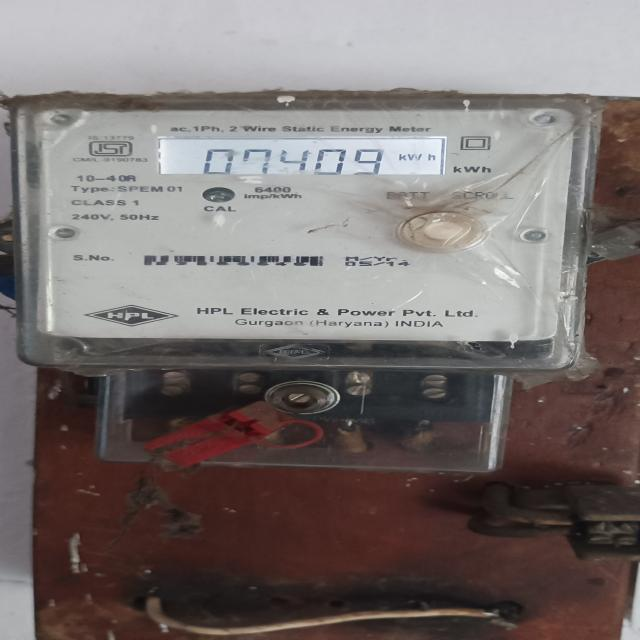display: (145, 137, 446, 180)
